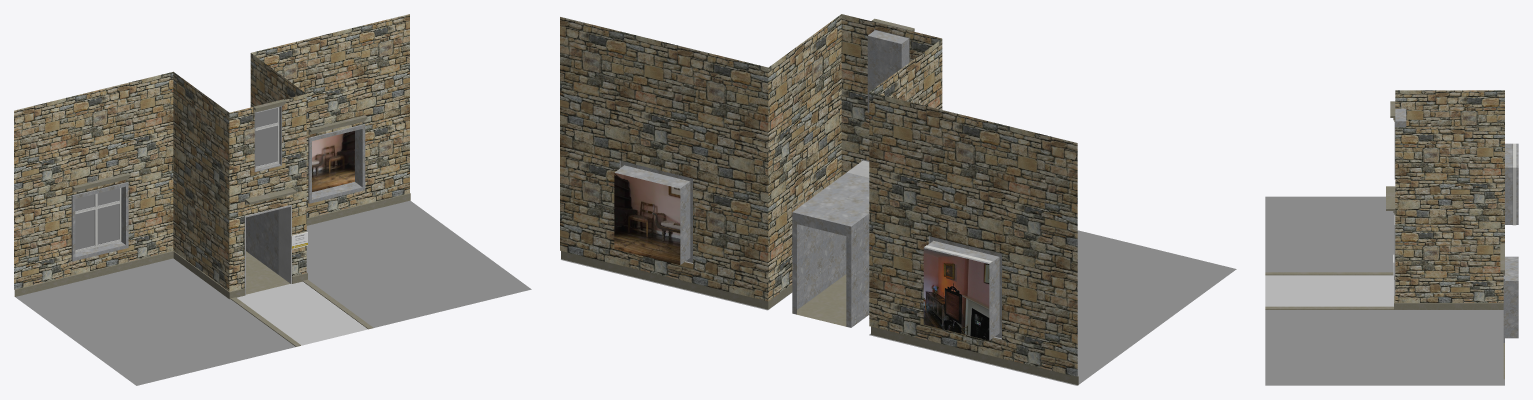
3 views of the same model, side by side, from view 1: azimuth 30°, elevation 25°; view 2: azimuth 150°, elevation 25°; view 3: azimuth 270°, elevation 25° (orthographic). The views are drawn at different scales.
Visible parts, largest first — view 1: 建筑, 草地, 室外窗框, 建筑踢脚线, 路面, 窗玻 (×2), 内景, 窗台, 大门白墙, 窗框; view 2: 建筑, 室外窗框, 草地, 内景, 建筑踢脚线; view 3: 草地, 建筑, 路面, 室外窗框, 建筑踢脚线, 窗台, 窗框.
Boxes of the visible parts, x1,y1,x2,y2 form: 建筑: (14,14,409,291); 草地: (15,200,531,385); 室外窗框: (71,106,365,274); 建筑踢脚线: (14,193,410,346); 路面: (237,281,367,345); 窗玻 (×2): (75,108,277,249); 内景: (312,131,354,191); 窗台: (72,99,367,205); 大门白墙: (244,204,291,294); 窗框: (75,188,121,252); 建筑: (560,14,1077,376); 室外窗框: (615,29,1001,340); 草地: (561,230,1236,385); 内景: (614,172,989,340); 建筑踢脚线: (561,251,1078,385); 草地: (1265,196,1504,385); 建筑: (1395,90,1504,302); 路面: (1265,275,1394,306); 室外窗框: (1394,108,1518,342); 建筑踢脚线: (1265,272,1504,379); 窗台: (1386,101,1504,275); 窗框: (1512,143,1516,225).
Bounding box in the file's own units: 12469 × 5603 × 7038.
